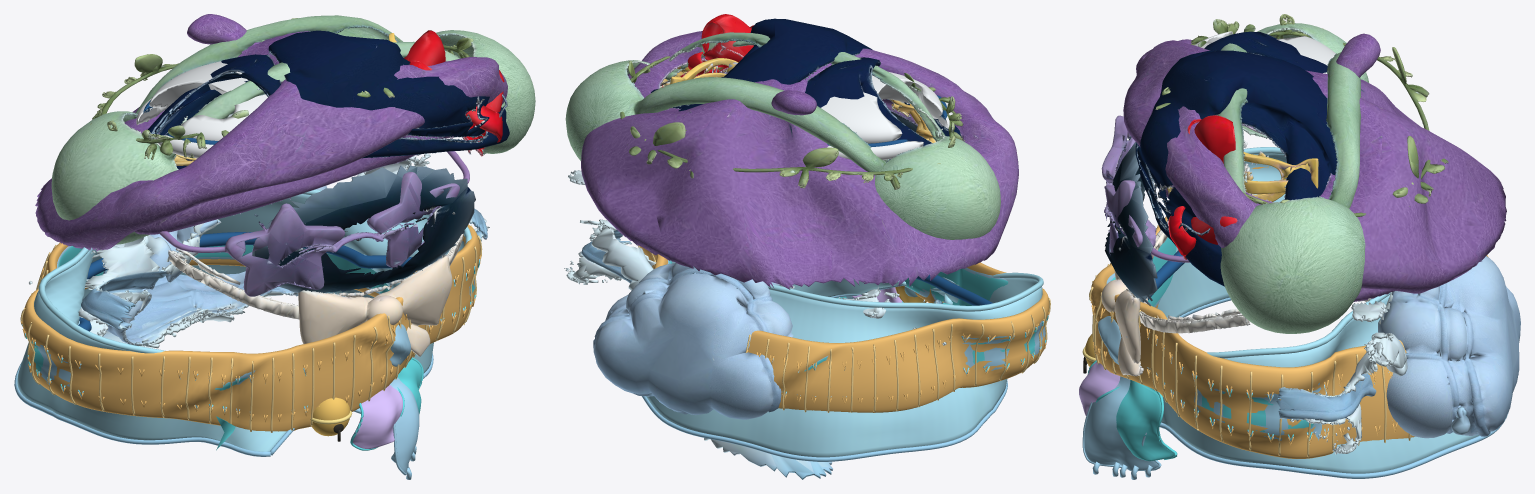
Rendered from nava-wardrobe-accessories-BYU43VKK.glb.
3 views of the same model, side by side, from view 1: azimuth 30°, elevation 25°; view 2: azimuth 150°, elevation 25°; view 3: azimuth 270°, elevation 25° (orthographic). The views are drawn at different scales.
Parts seen in each view (by area): view 1: Meshy worn-derived mist-beret, Meshy worn-derived night-voyage-cap, v259 honey knitted yarn v259 cloth.001 | honey-neck-warmer, Meshy worn-derived mint-earmuffs, Meshy worn-derived cloud-backpack, soft opaque ice-blue cape cloth | accessory-raindrop-cape, Meshy worn-derived star-glasses, Meshy worn-derived pearl-bow, v259 honey yarn highlights v259 cloth.001 | honey-neck-warme, snow ivory | sailor-hat, v259 cloud-knit blue v259 cloth.001 | cloud-scarf, Meshy worn-derived lily-garland (+7 smaller); view 2: Meshy worn-derived mist-beret, Meshy worn-derived cloud-backpack, Meshy worn-derived mint-earmuffs, soft opaque ice-blue cape cloth | accessory-raindrop-cape, v259 honey knitted yarn v259 cloth.001 | honey-neck-warmer, Meshy worn-derived night-voyage-cap, snow ivory | sailor-hat, Meshy worn-derived lily-garland, v259 honey yarn highlights v259 cloth.001 | honey-neck-warme, ice blue satin | accessory-raindrop-cape, cape edge opaque blue | accessory-raindrop-cape, v259 aqua glass enamel v259 cloth.001 | aurora-scarf (+5 smaller); view 3: Meshy worn-derived mist-beret, Meshy worn-derived cloud-backpack, Meshy worn-derived night-voyage-cap, Meshy worn-derived mint-earmuffs, v259 honey knitted yarn v259 cloth.001 | honey-neck-warmer, soft opaque ice-blue cape cloth | accessory-raindrop-cape, v259 cloud-knit blue v259 cloth.001 | cloud-scarf, v259 aqua glass enamel v259 cloth.001 | aurora-scarf, Meshy worn-derived pearl-bow, Meshy worn-derived lily-garland, Meshy worn-derived star-glasses, Meshy worn-derived cherry-bow (+6 smaller).
Boxes of the visible parts, left/top/right/bottom form: Meshy worn-derived mist-beret: left=35, top=14, right=507, bottom=251; Meshy worn-derived night-voyage-cap: left=148, top=30, right=509, bottom=296; v259 honey knitted yarn v259 cloth.001 | honey-neck-warmer: left=21, top=224, right=481, bottom=431; Meshy worn-derived mint-earmuffs: left=51, top=15, right=535, bottom=244; Meshy worn-derived cloud-backpack: left=29, top=153, right=489, bottom=348; soft opaque ice-blue cape cloth | accessory-raindrop-cape: left=17, top=194, right=464, bottom=451; Meshy worn-derived star-glasses: left=159, top=151, right=469, bottom=296; Meshy worn-derived pearl-bow: left=168, top=233, right=463, bottom=356; v259 honey yarn highlights v259 cloth.001 | honey-neck-warme: left=20, top=225, right=482, bottom=432; snow ivory | sailor-hat: left=136, top=61, right=267, bottom=158; v259 cloud-knit blue v259 cloth.001 | cloud-scarf: left=21, top=246, right=480, bottom=479; Meshy worn-derived lily-garland: left=90, top=18, right=473, bottom=159; Meshy worn-derived mist-beret: left=581, top=31, right=1018, bottom=289; Meshy worn-derived cloud-backpack: left=564, top=170, right=946, bottom=479; Meshy worn-derived mint-earmuffs: left=565, top=32, right=1000, bottom=239; soft opaque ice-blue cape cloth | accessory-raindrop-cape: left=646, top=260, right=1042, bottom=457; v259 honey knitted yarn v259 cloth.001 | honey-neck-warmer: left=639, top=246, right=1049, bottom=412; Meshy worn-derived night-voyage-cap: left=651, top=18, right=961, bottom=162; snow ivory | sailor-hat: left=821, top=72, right=952, bottom=160; Meshy worn-derived lily-garland: left=620, top=56, right=964, bottom=189; v259 honey yarn highlights v259 cloth.001 | honey-neck-warme: left=638, top=245, right=1050, bottom=412; ice blue satin | accessory-raindrop-cape: left=767, top=272, right=1043, bottom=311; cape edge opaque blue | accessory-raindrop-cape: left=641, top=284, right=1007, bottom=461; v259 aqua glass enamel v259 cloth.001 | aurora-scarf: left=669, top=260, right=1048, bottom=392; Meshy worn-derived mist-beret: left=1123, top=33, right=1506, bottom=301; Meshy worn-derived cloud-backpack: left=1276, top=256, right=1520, bottom=454; Meshy worn-derived night-voyage-cap: left=1105, top=31, right=1337, bottom=306; Meshy worn-derived mint-earmuffs: left=1217, top=23, right=1368, bottom=333; v259 honey knitted yarn v259 cloth.001 | honey-neck-warmer: left=1091, top=166, right=1488, bottom=458; soft opaque ice-blue cape cloth | accessory-raindrop-cape: left=1157, top=153, right=1479, bottom=473; v259 cloud-knit blue v259 cloth.001 | cloud-scarf: left=1082, top=273, right=1388, bottom=479; v259 aqua glass enamel v259 cloth.001 | aurora-scarf: left=1087, top=237, right=1324, bottom=461; Meshy worn-derived pearl-bow: left=1101, top=163, right=1371, bottom=376; Meshy worn-derived lily-garland: left=1155, top=14, right=1448, bottom=216; Meshy worn-derived star-glasses: left=1101, top=115, right=1189, bottom=262; Meshy worn-derived cherry-bow: left=1168, top=115, right=1237, bottom=259.
Bounding box in the file's own units: 1.97 × 1.46 × 1.44.
Materials: 27 (11 with a texture image).
